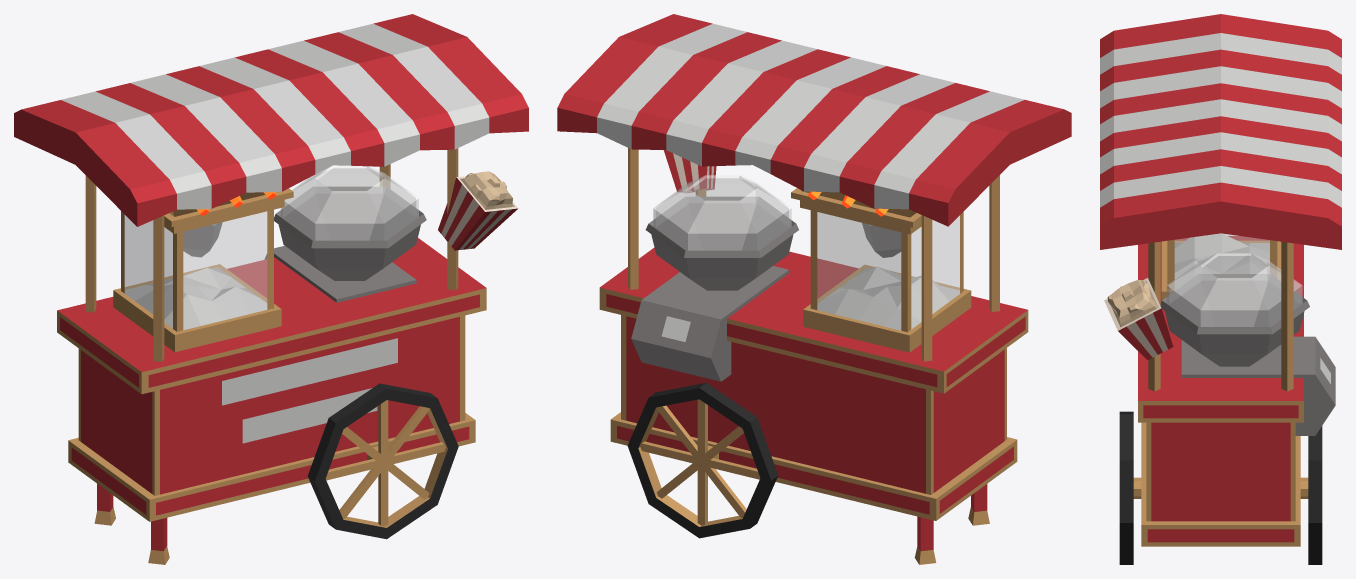
The model's file is amusement-park-stand-popcorn-big.glb.
3 views of the same model, side by side, from view 1: azimuth 30°, elevation 25°; view 2: azimuth 150°, elevation 25°; view 3: azimuth 270°, elevation 25° (orthographic).
Parts seen in each view (by area): view 1: stand-popcorn-big; view 2: stand-popcorn-big; view 3: stand-popcorn-big.
Boxes of the visible parts, x1=… form: stand-popcorn-big: x1=14, y1=14, x2=528, y2=564; stand-popcorn-big: x1=557, y1=14, x2=1071, y2=564; stand-popcorn-big: x1=1100, y1=14, x2=1341, y2=564.
Bounding box in the file's own units: 2.06 × 2.17 × 1.12.
